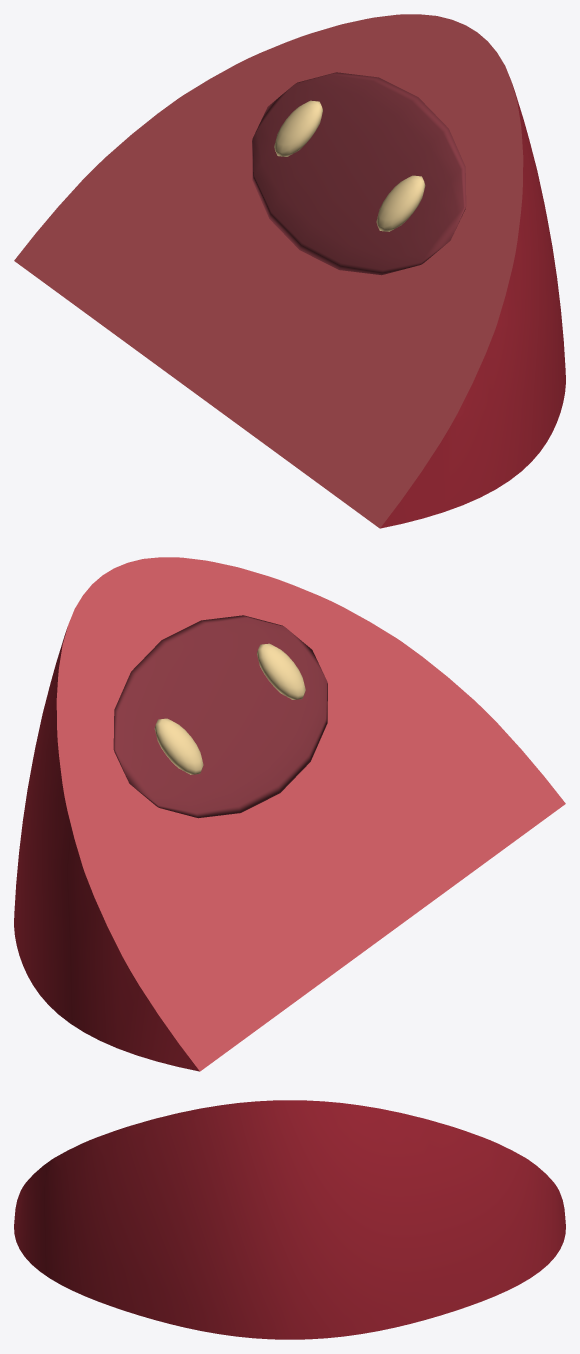
The model's file is grape_chunk.glb.
3 renders of one model, top to bottom at view 1: azimuth 30°, elevation 25°; view 2: azimuth 150°, elevation 25°; view 3: azimuth 270°, elevation 25°, orthographic. The views are drawn at different scales.
Parts seen in each view (by area): view 1: Grape Grape ruby waxed skin / Grape translucent coral flesh , Grape Two grape gel locules, Grape Small ivory grape seeds; view 2: Grape Grape ruby waxed skin / Grape translucent coral flesh , Grape Two grape gel locules, Grape Small ivory grape seeds; view 3: Grape Grape ruby waxed skin / Grape translucent coral flesh .
Boxes of the visible parts, x1,y1,x2,y2 form: Grape Grape ruby waxed skin / Grape translucent coral flesh : [14, 14, 565, 528]; Grape Two grape gel locules: [252, 72, 466, 275]; Grape Small ivory grape seeds: [274, 100, 425, 231]; Grape Grape ruby waxed skin / Grape translucent coral flesh : [14, 557, 565, 1071]; Grape Two grape gel locules: [113, 615, 327, 818]; Grape Small ivory grape seeds: [154, 643, 305, 774]; Grape Grape ruby waxed skin / Grape translucent coral flesh : [14, 1100, 565, 1339].
Bounding box in the file's own units: 0.3563 × 0.3012 × 0.6825.
